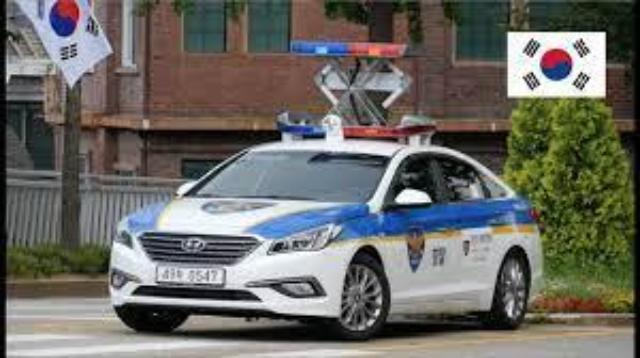police_car: (105, 117, 544, 333)
